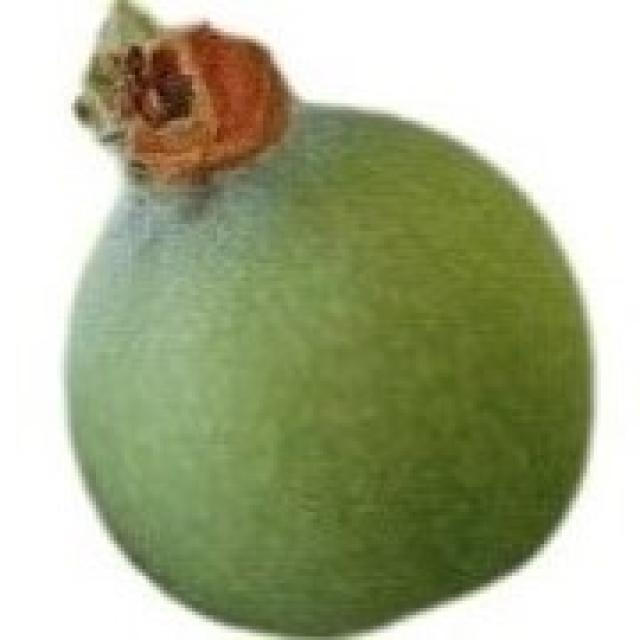20-_ripeness: (56, 16, 594, 629)
